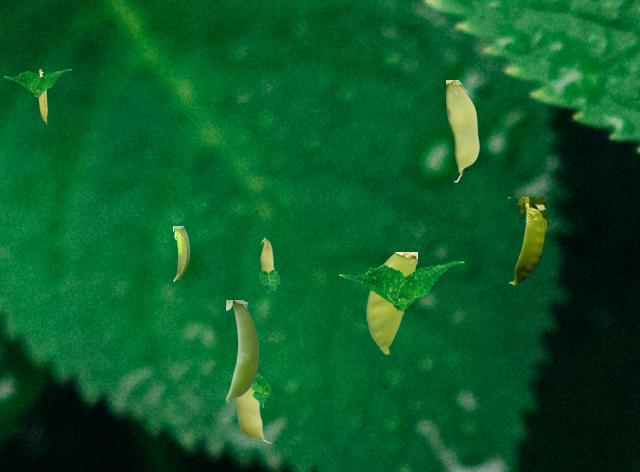pea: (366, 252, 416, 353), (446, 80, 478, 181), (508, 197, 545, 284), (226, 300, 257, 401), (235, 389, 271, 442), (173, 226, 190, 280), (260, 237, 279, 282), (38, 69, 46, 123)
